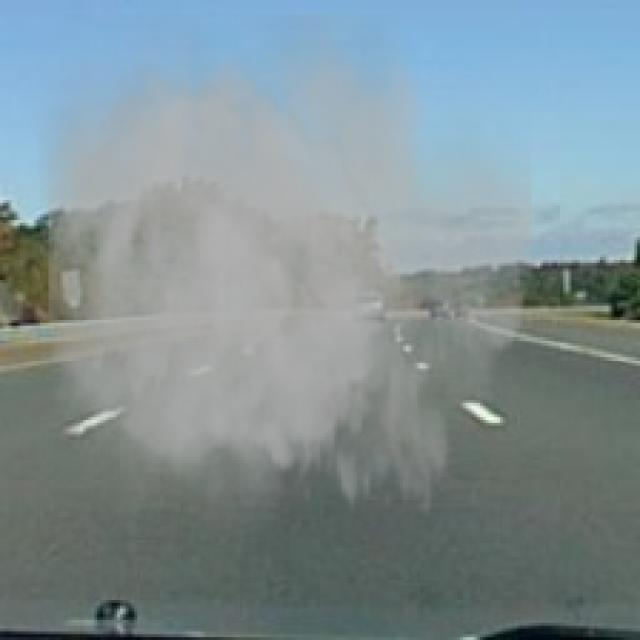Smoke: (17, 14, 532, 569)
